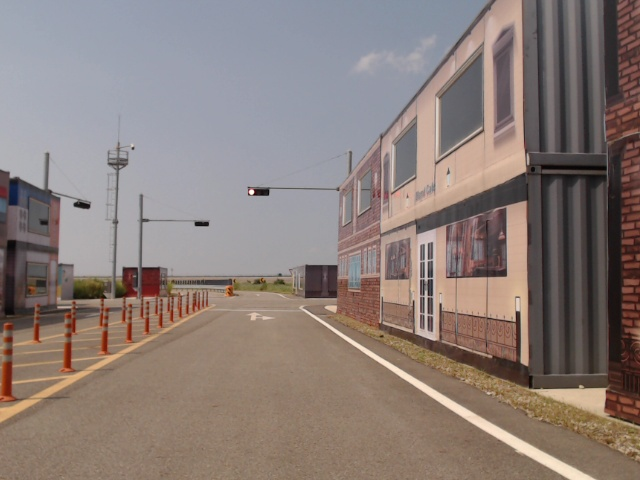red_3: (247, 188, 270, 196)
